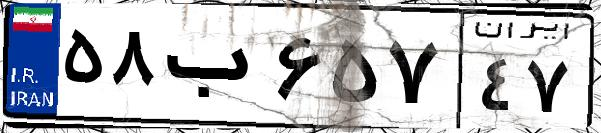4: (475, 38, 525, 113)
5: (330, 28, 385, 110), (57, 26, 110, 100)
6: (270, 28, 330, 110)
7: (385, 28, 445, 110), (525, 38, 570, 115)
8: (110, 28, 158, 98)
ب: (158, 20, 270, 120)
